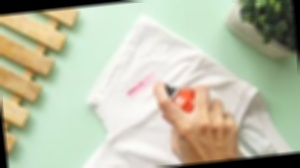lipstick: (118, 77, 153, 97)
